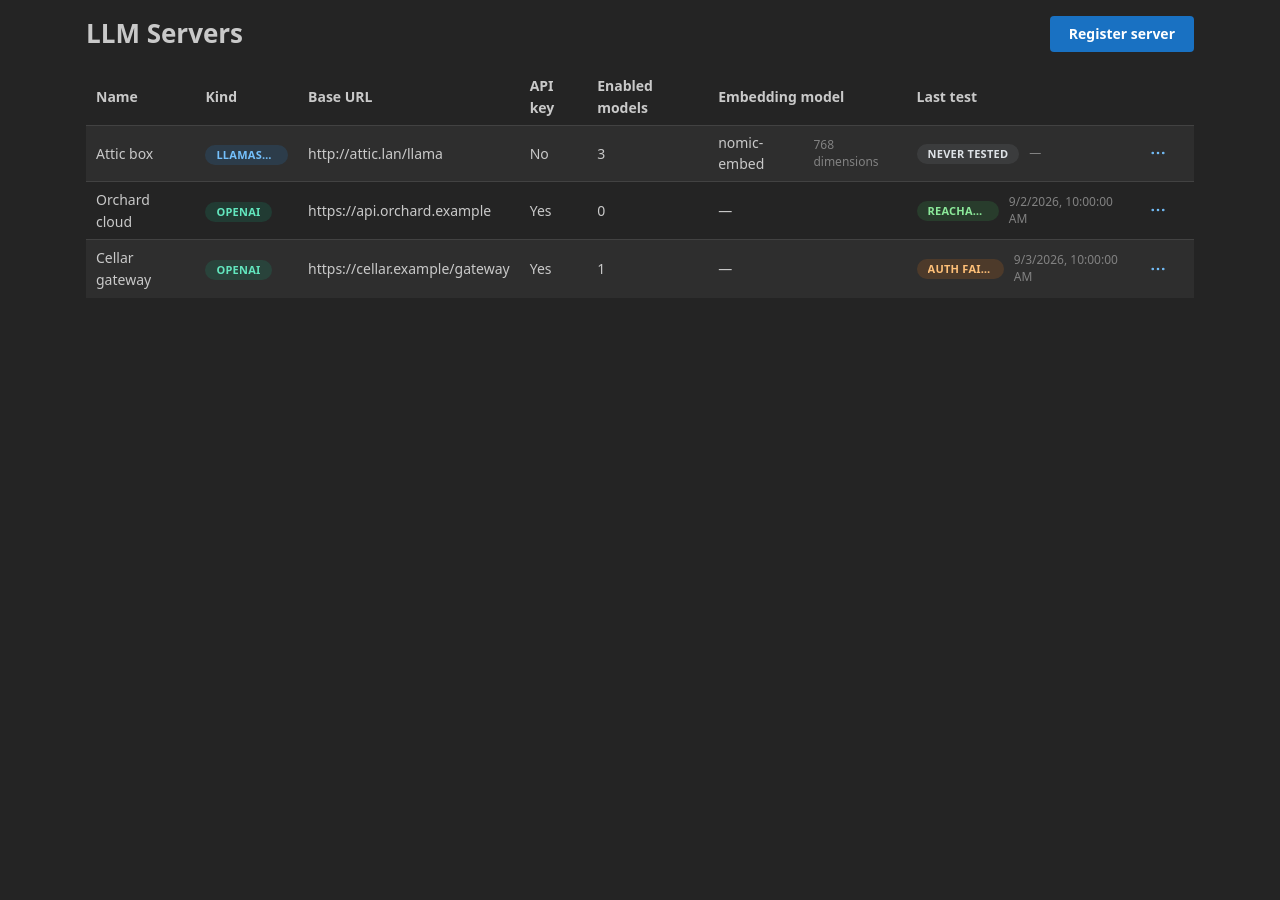
Test: delete is confirmed › choosing Delete opens the shared confirm and issues no request — DoD-10
Click the submit button: (1158, 153) x1=1144 y1=139 x2=1172 y2=167
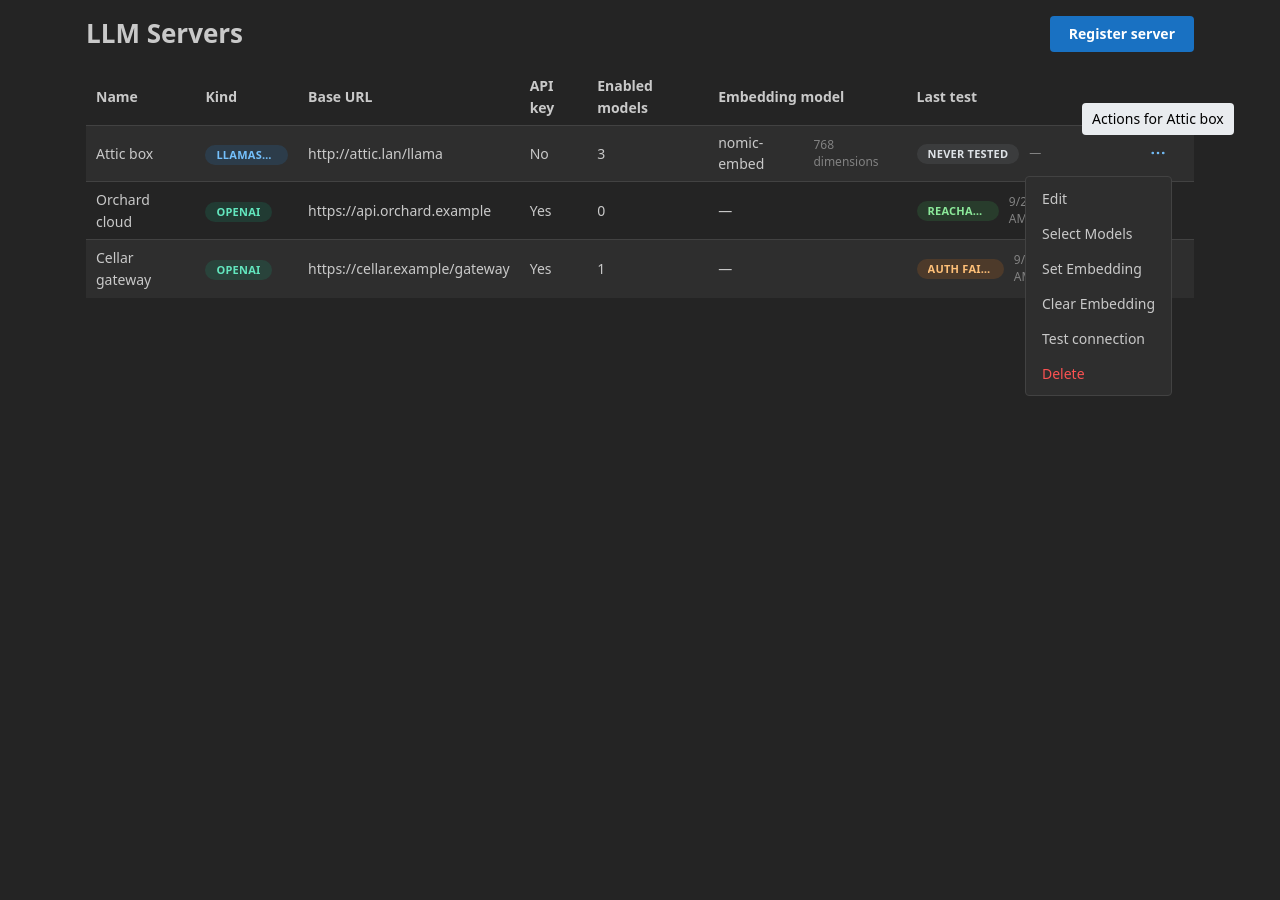
Click the menu item "Delete": (1098, 374) x1=1030 y1=356 x2=1167 y2=391
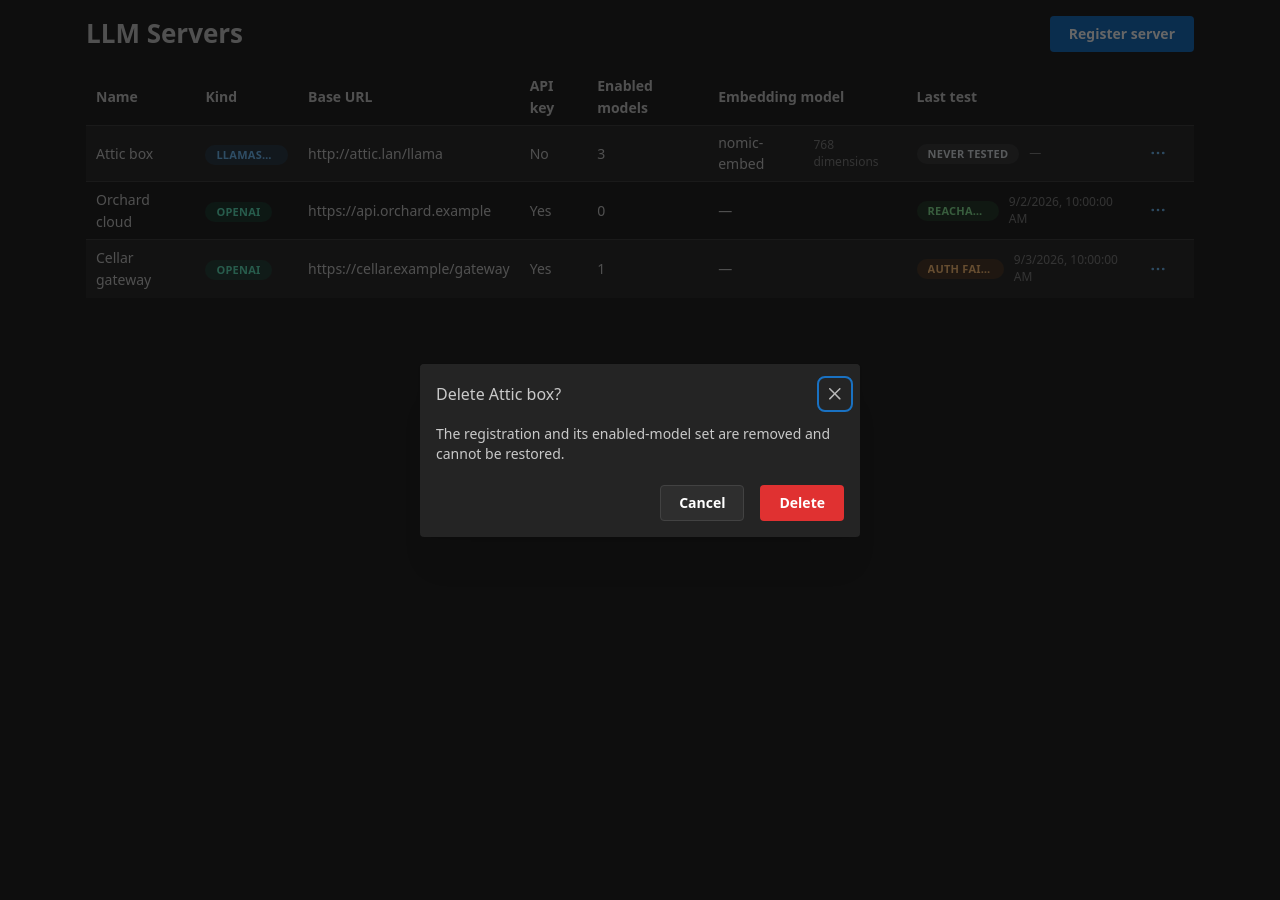
Check: the button "Delete" is shown, box x1=760 y1=484 x2=844 y2=520
Check: the button "Cancel" is shown, box x1=660 y1=484 x2=744 y2=520
